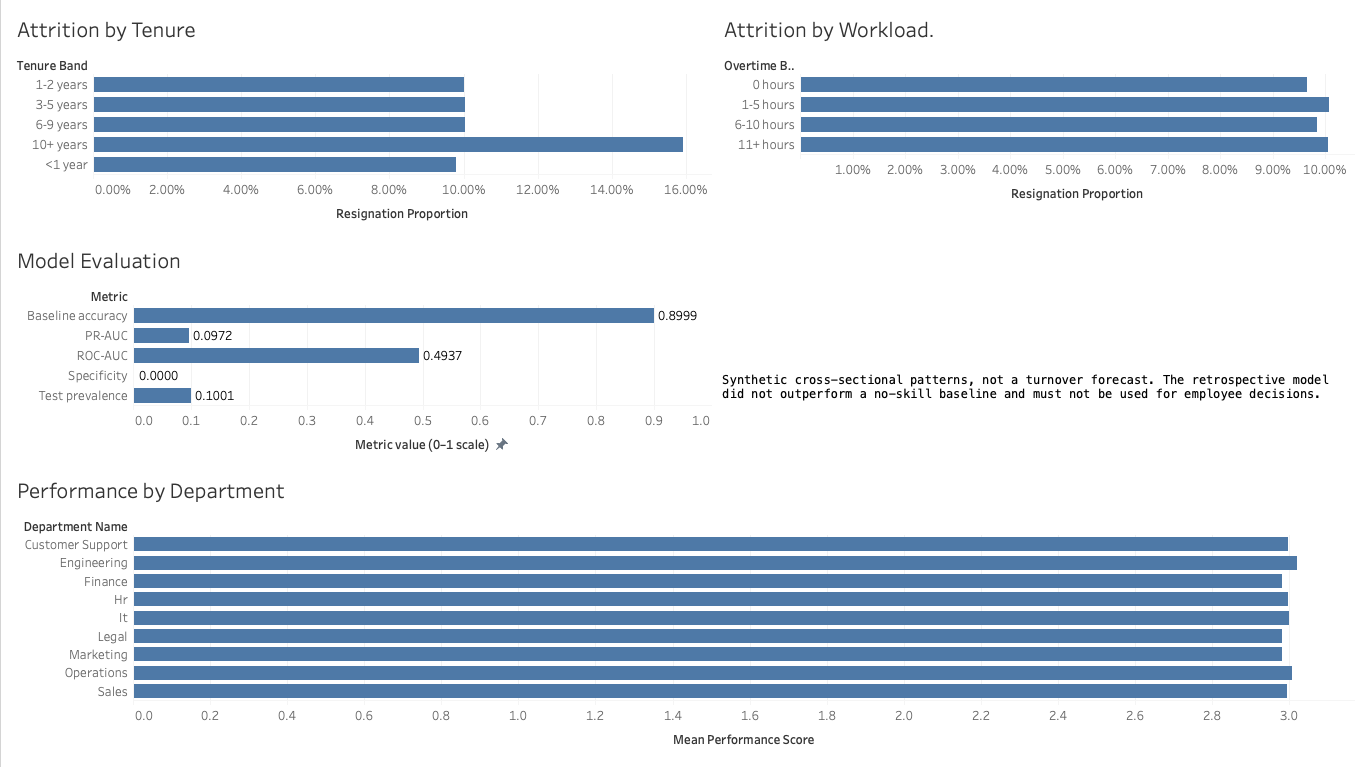

What the dashboard file says about the page in this screenshot:
{"tool":"tableau","page":{"name":"Attrition & Performance","canvas":[1366,768],"ordinal":0},"visuals":[{"type":"worksheet","title":"Attrition by Tenure","mark":"Automatic","rows":["tenure_band"],"cols":["resignation_proportion"],"box":[8,8,707,231]},{"type":"worksheet","title":"Attrition by Workload.","mark":"Automatic","rows":["overtime_band"],"cols":["resignation_proportion"],"box":[715,8,643,298]},{"type":"worksheet","title":"Model Evaluation","mark":"Automatic","rows":["metric"],"cols":["value"],"box":[8,239,707,230]},{"type":"text","box":[715,306,643,163]},{"type":"worksheet","title":"Performance by Department","mark":"Automatic","rows":["department_name"],"cols":["mean_performance_score"],"box":[8,469,1350,291]}]}

Visuals, with their boxes in screenshot pixels (x1, y1, x2, y2), scaled from the page's 1366x768 canvas onto the 1367x767 screenshot:
"Attrition by Tenure" worksheet: crop(8, 8, 716, 239)
"Attrition by Workload." worksheet: crop(716, 8, 1359, 306)
"Model Evaluation" worksheet: crop(8, 239, 716, 468)
text: crop(716, 306, 1359, 468)
"Performance by Department" worksheet: crop(8, 468, 1359, 759)
